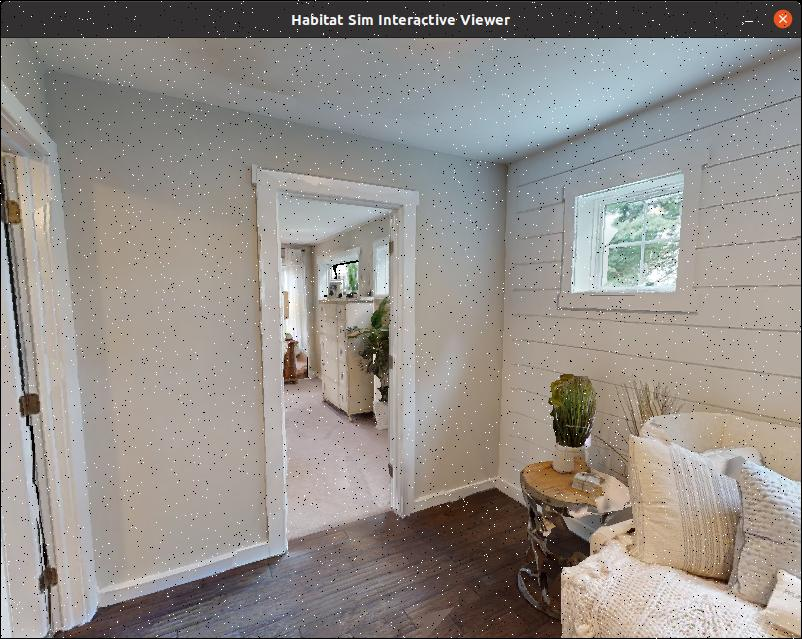door-frame: (253, 159, 424, 548)
sofa: (557, 373, 802, 639)
